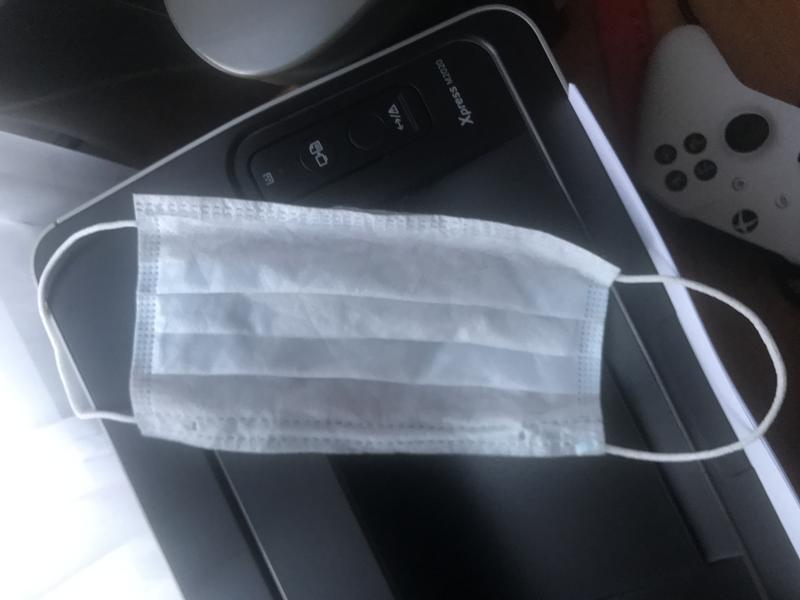medical_mask: (33, 193, 786, 462)
